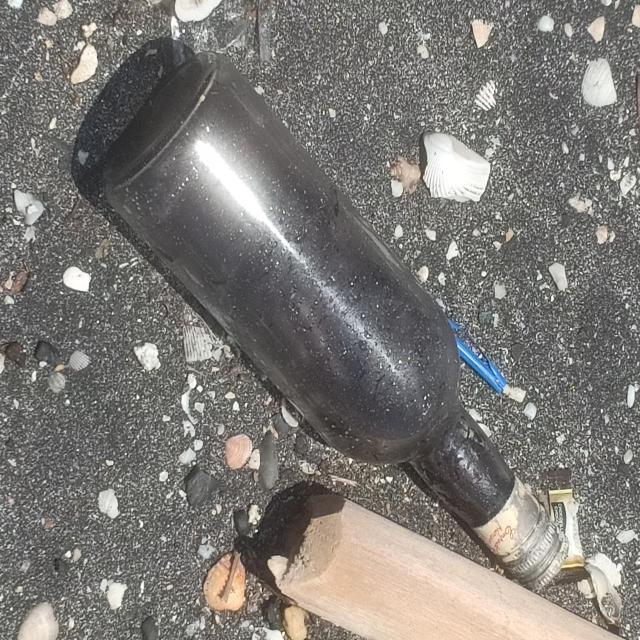litter: (98, 48, 572, 596), (269, 488, 640, 640)
